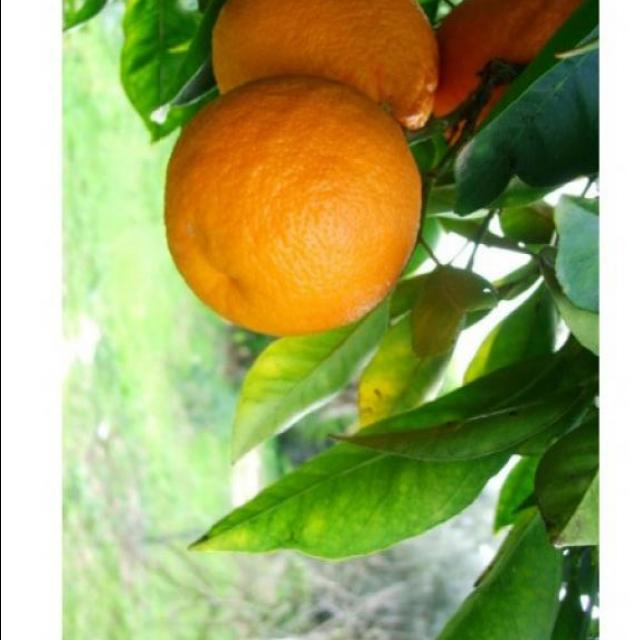orange: (158, 68, 429, 342), (186, 0, 441, 180)
